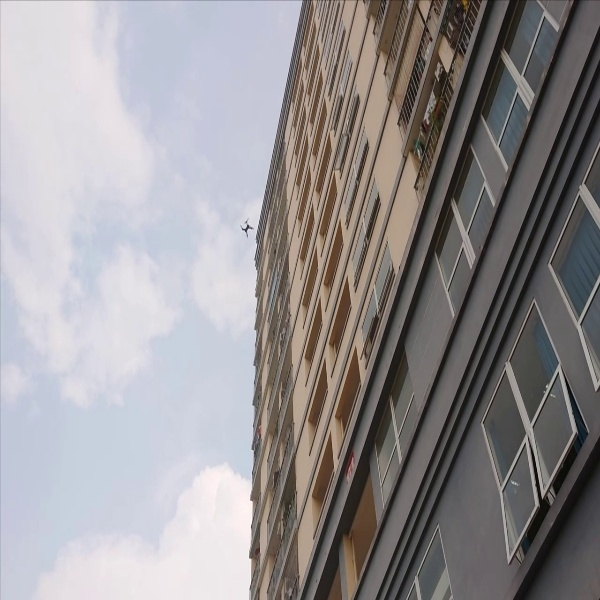drone: (238, 213, 253, 238)
